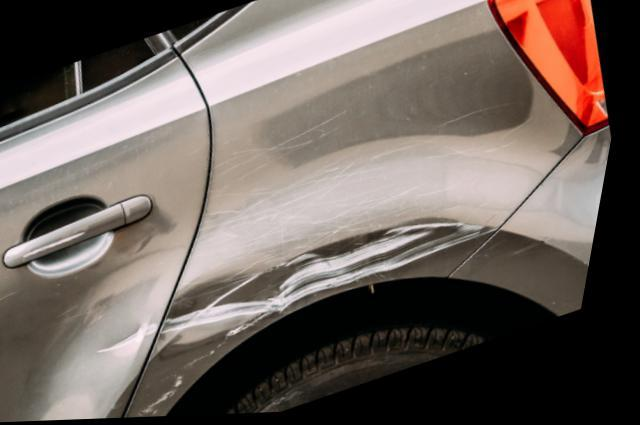dent: (176, 262, 304, 351), (112, 323, 159, 359)
rub: (191, 98, 509, 316)
